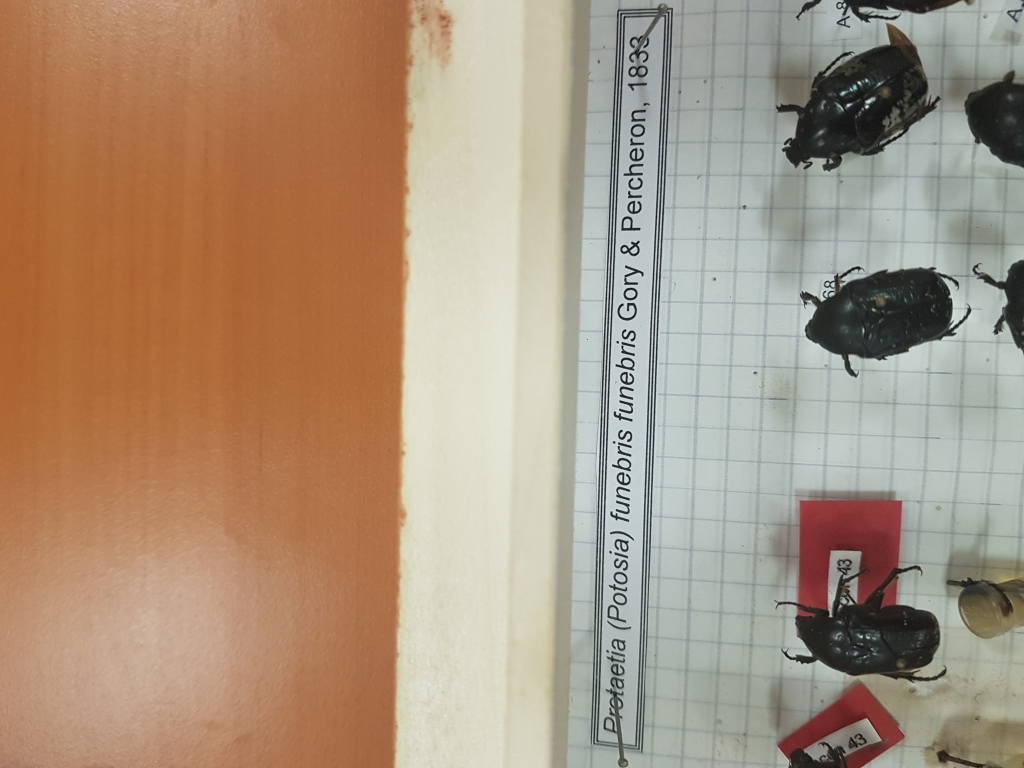Protaetia_funebris_funebris: (782, 263, 974, 384)
